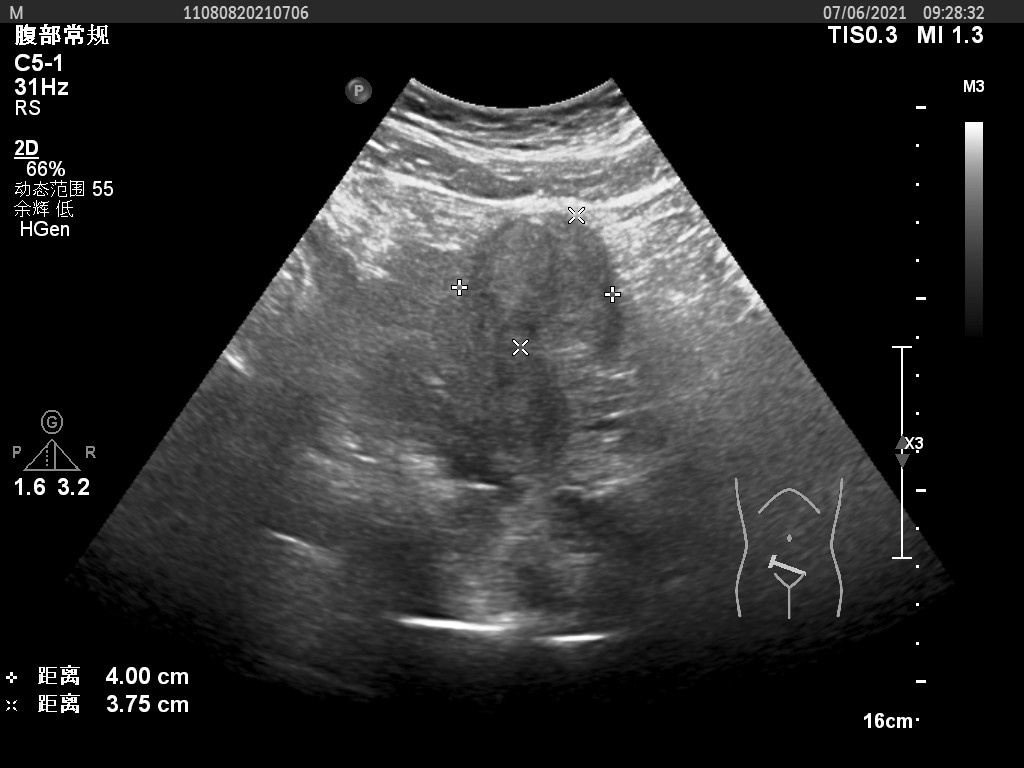肌瘤: (465, 218, 616, 346)
